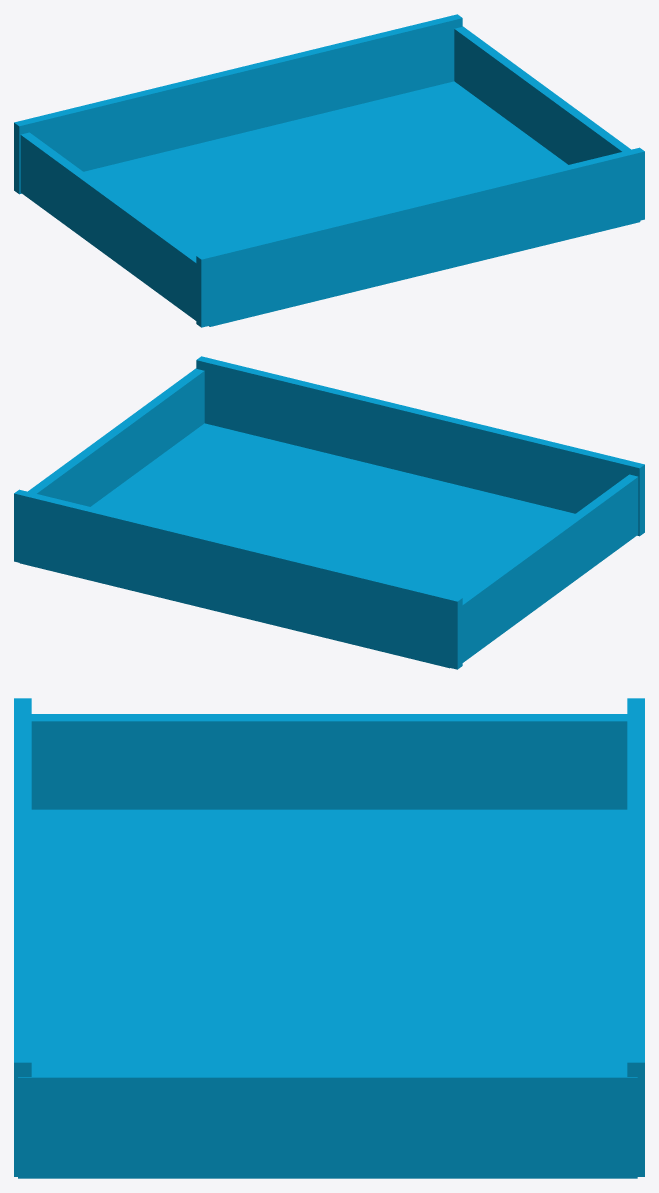
The model's file is Fruits_Box_02_Lod1.fbx.
3 renders of one model, top to bottom at view 1: azimuth 30°, elevation 25°; view 2: azimuth 150°, elevation 25°; view 3: azimuth 270°, elevation 25°, orthographic. The views are drawn at different scales.
Visible parts, largest first — view 1: Fruits_Box_02_Lod1; view 2: Fruits_Box_02_Lod1; view 3: Fruits_Box_02_Lod1.
Boxes of the visible parts, bbox=[...] form: Fruits_Box_02_Lod1: bbox=[14, 14, 644, 327]; Fruits_Box_02_Lod1: bbox=[14, 356, 644, 669]; Fruits_Box_02_Lod1: bbox=[14, 698, 644, 1178].
Size of the model in its own units: 50.57 by 7.69 by 36.97.
